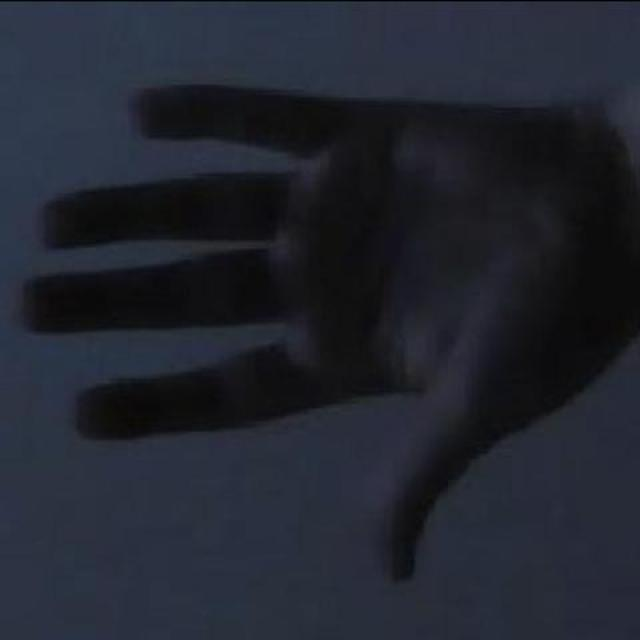Open Hand: (14, 46, 640, 586)
